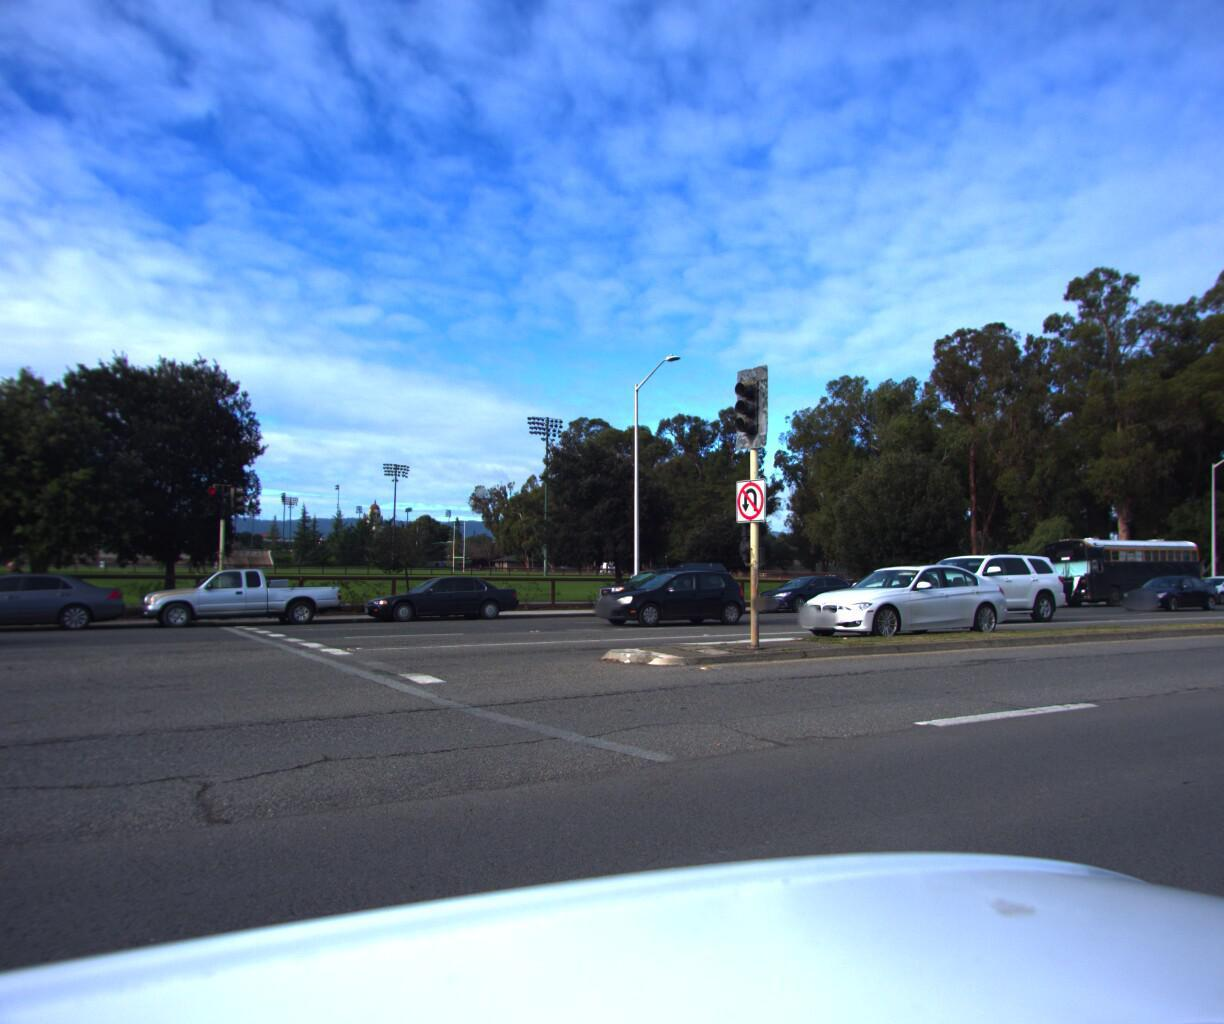bus: (1022, 525, 1205, 608)
car: (791, 559, 1022, 648), (129, 561, 353, 634), (888, 542, 1072, 623), (580, 555, 755, 627), (577, 555, 742, 617), (349, 570, 524, 627), (738, 568, 873, 612), (1116, 568, 1224, 609), (1176, 567, 1224, 601)
